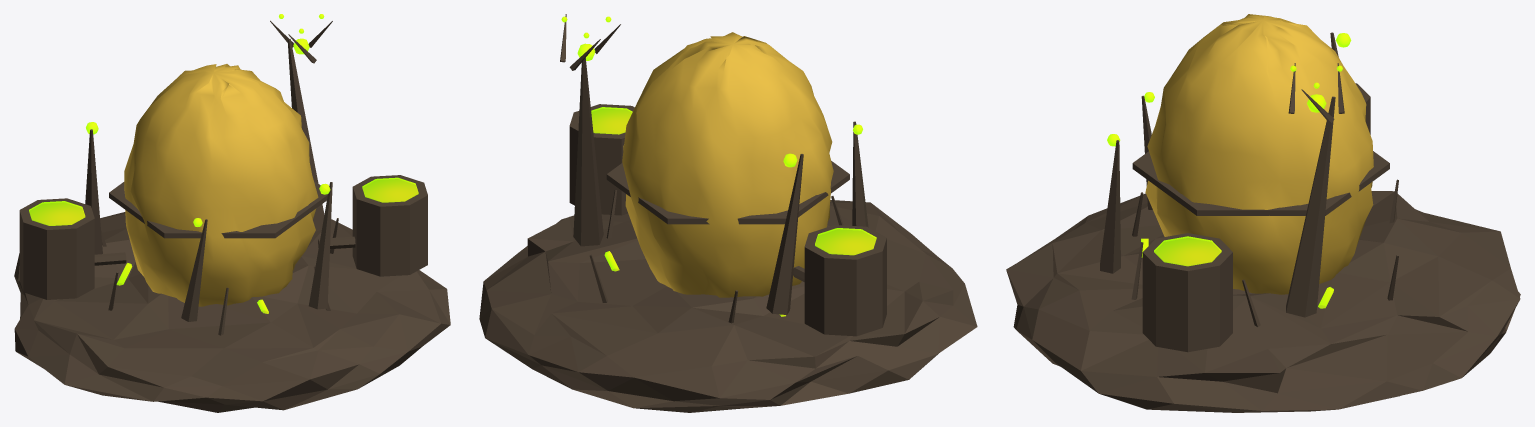
Rendered from verdant_apex_hive_core.glb.
3 renders of one model, left to right at view 1: azimuth 30°, elevation 25°; view 2: azimuth 150°, elevation 25°; view 3: azimuth 270°, elevation 25°, orthographic. The views are drawn at different scales.
Visible parts, largest first — view 1: VerdantApexHiveCore; view 2: VerdantApexHiveCore; view 3: VerdantApexHiveCore.
Boxes of the visible parts, box(x1,y1,x2,y2) form: VerdantApexHiveCore: box(14, 14, 450, 412); VerdantApexHiveCore: box(479, 14, 977, 412); VerdantApexHiveCore: box(1006, 14, 1520, 412).
Bounding box in the file's own units: 5.75 × 4.07 × 5.76.
